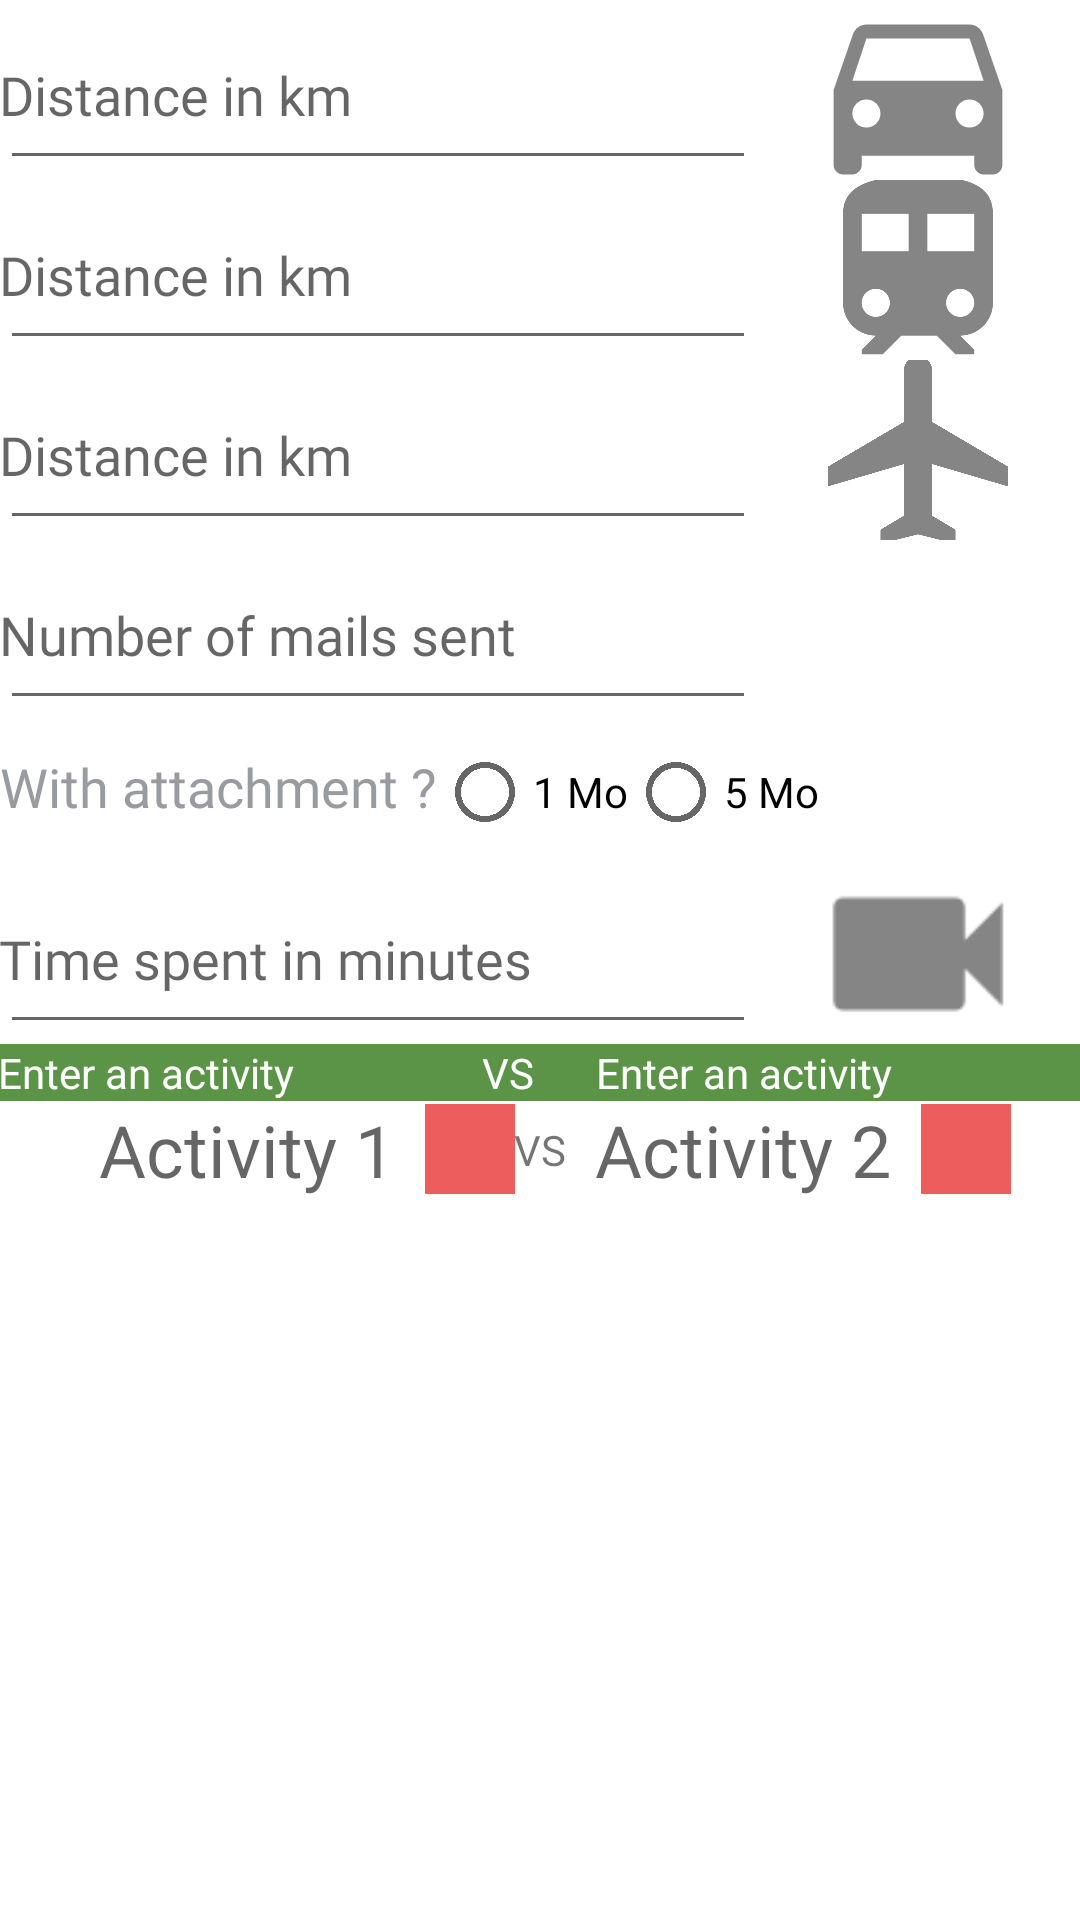

Screen size 1080*1920. Icon name, then its box in pixels as bbox(x1, y1, x2, y2):
car: bbox(833, 24, 1003, 175)
plane: bbox(828, 360, 1008, 540)
train: bbox(843, 180, 993, 355)
visio: bbox(832, 896, 1004, 1012)
